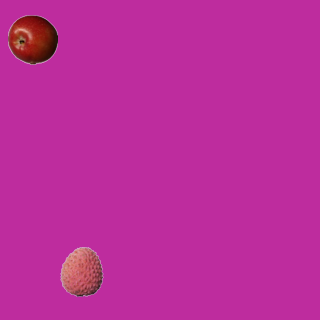Apple Braeburn: (7, 14, 57, 64)
Lychee: (56, 246, 106, 296)
